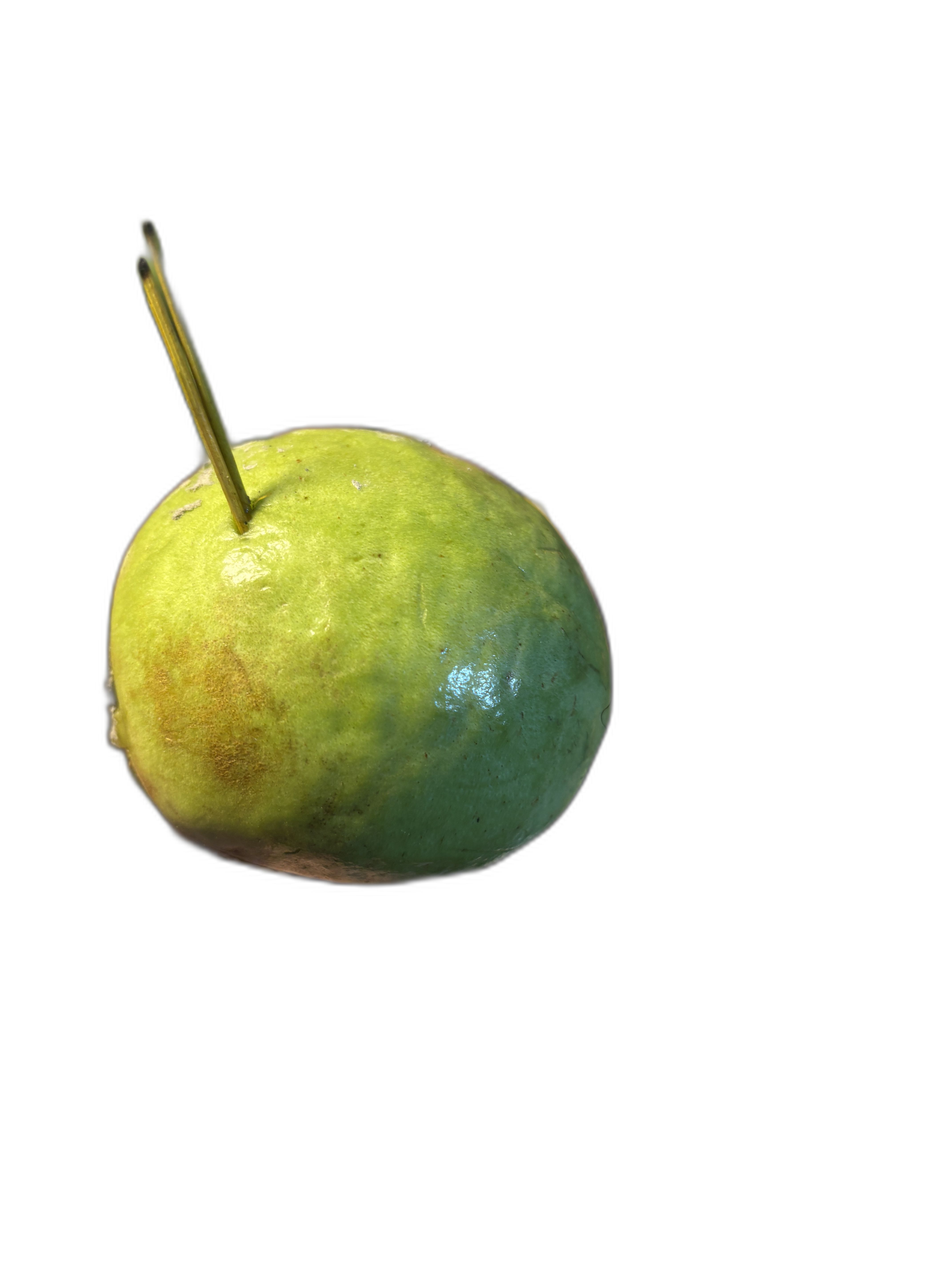guava: (82, 0, 818, 1141)
